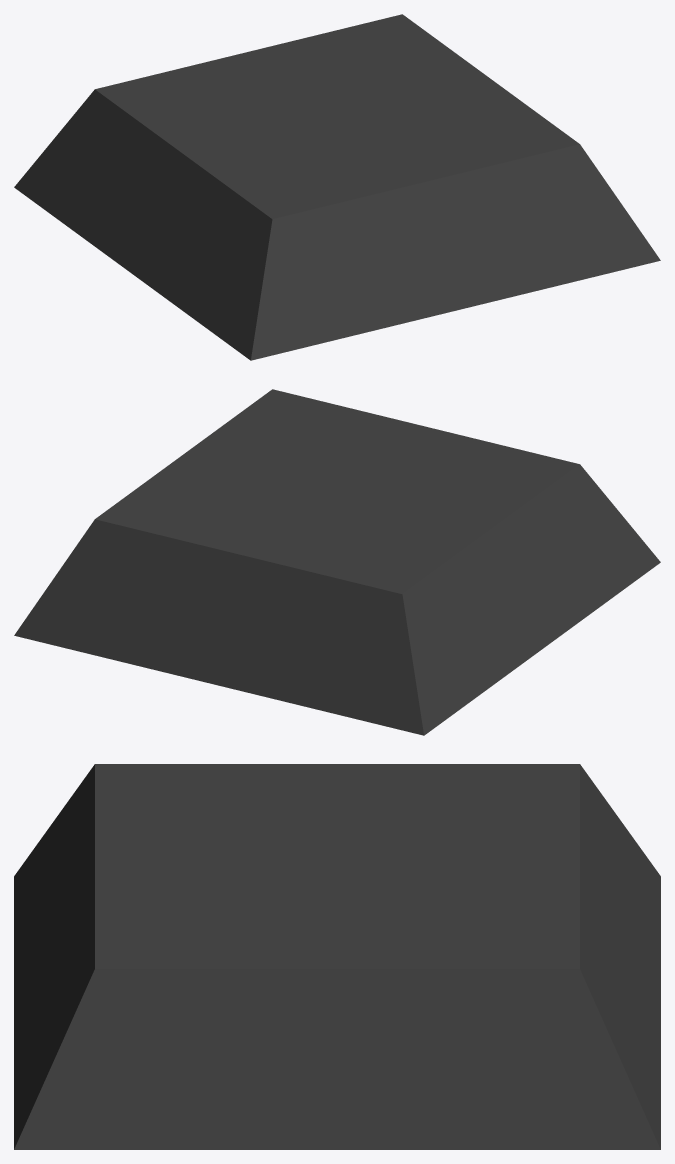
The model's file is Hill.fbx.
3 views of the same model, one above another, from view 1: azimuth 30°, elevation 25°; view 2: azimuth 150°, elevation 25°; view 3: azimuth 270°, elevation 25° (orthographic). The views are drawn at different scales.
Visible parts, largest first — view 1: cuboid; view 2: cuboid; view 3: cuboid.
Part boxes in pixels (x1,y1,x2,y2): cuboid: (14, 14, 660, 360); cuboid: (14, 389, 660, 735); cuboid: (14, 764, 660, 1149).
Bounding box in the file's own units: 100 × 25 × 100.
1 material, 1 textured.
